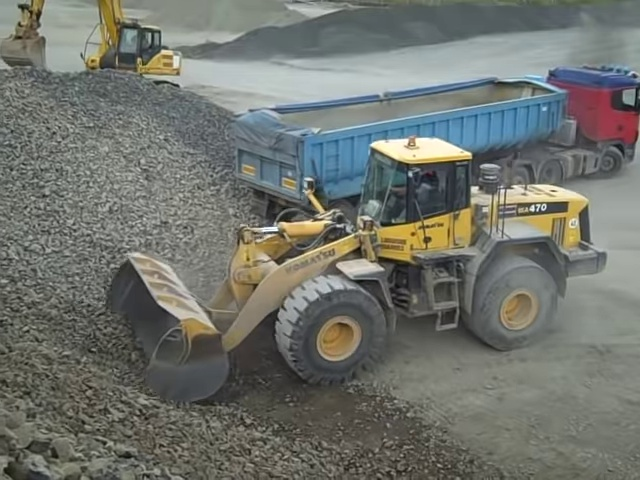excavator: (3, 2, 185, 98)
truck: (228, 62, 639, 210)
wheel loader: (85, 136, 609, 406)
